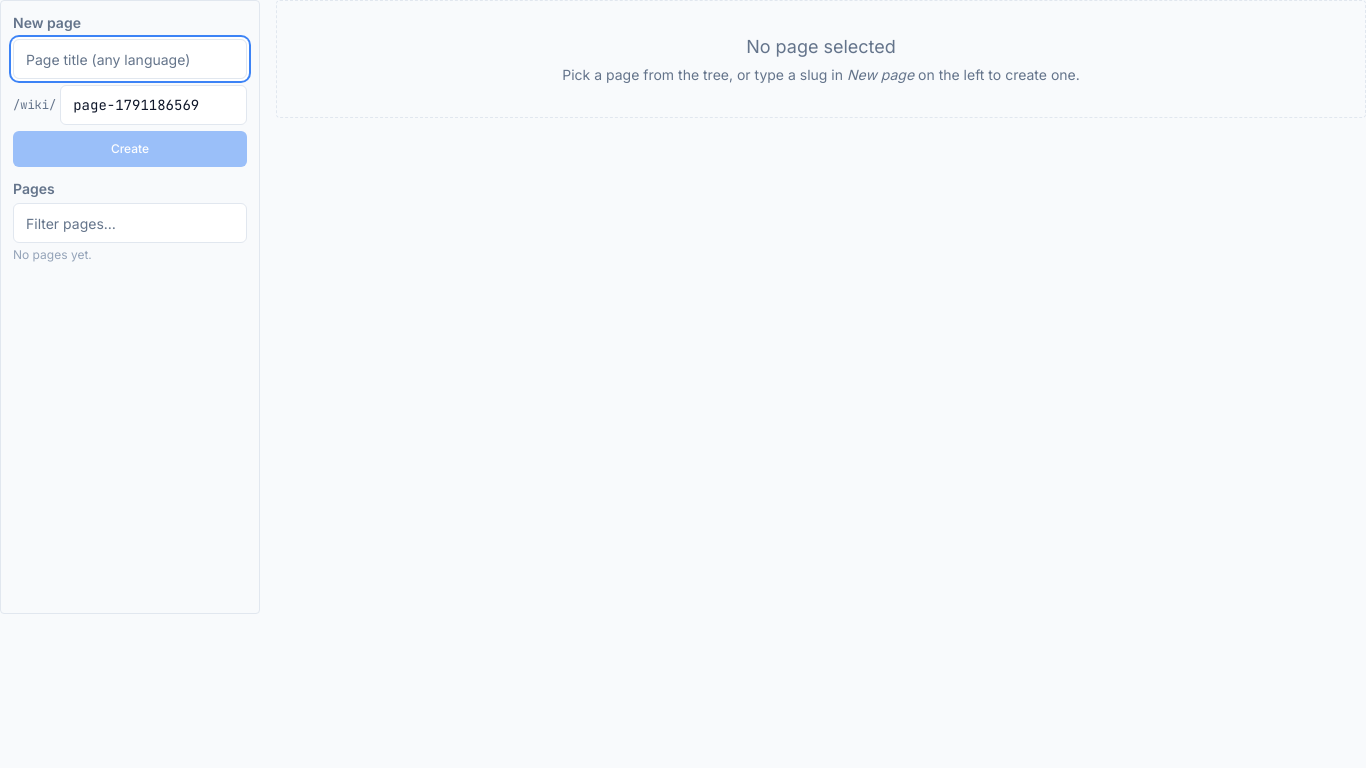
Test: WikiPage › renders the "New page" form with auto-slug from title
Expected: the text "No page selected" is shown, top-left (746, 36), bottom-right (896, 57)
Type "Hello World" into the field with placeholder "Page title (any language)" at (130, 59), box top-left (13, 39), bottom-right (247, 79)
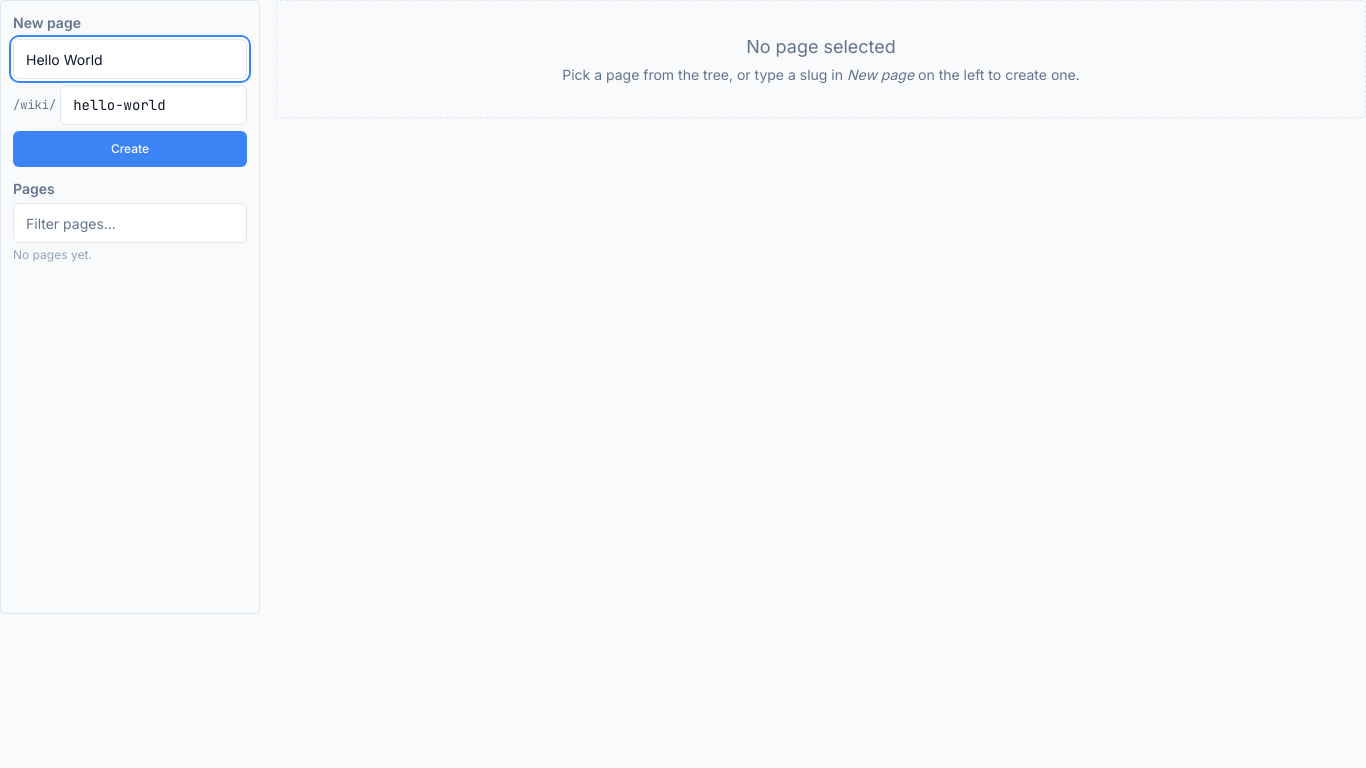
Expected: the field with placeholder "auto-generated" next to "/wiki/" holds "hello-world", top-left (60, 85), bottom-right (247, 125)
